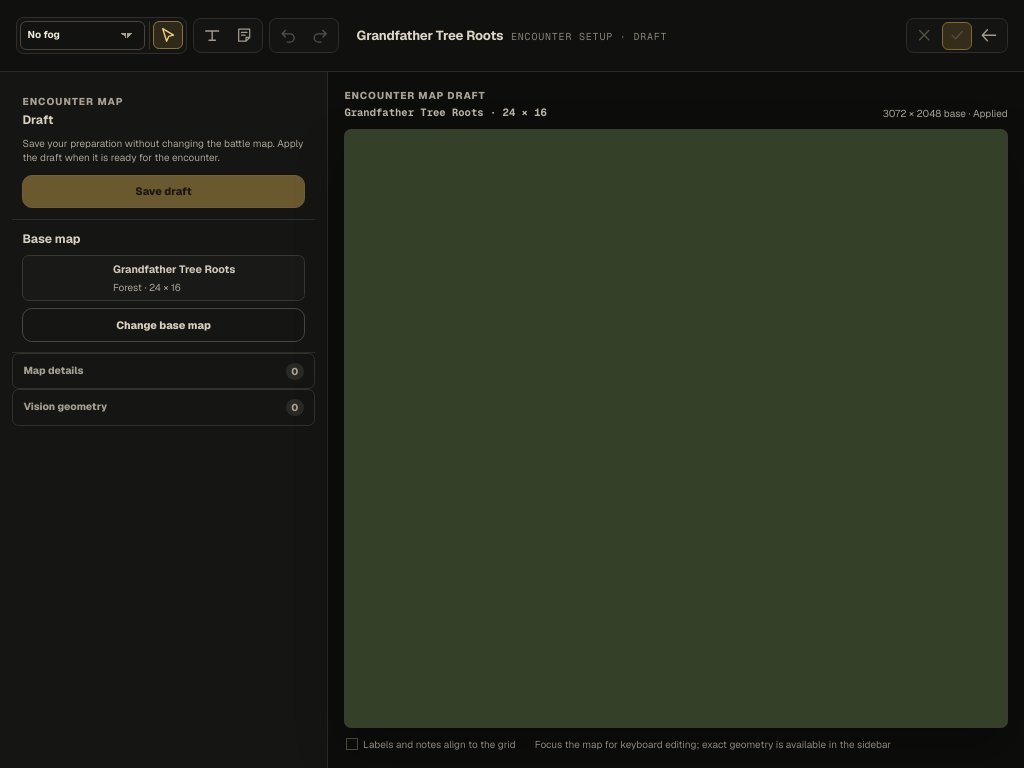
Test: MapWorkshop exit safeguards › only enables Apply draft when the draft differs from the applied encounter map
Expected: the button named "Apply draft" is disabled, [942,22,972,50]
Step 1. Select "Player vision" in the dropdown named "Visibility mode" → (82, 36), box [20,21,145,50]
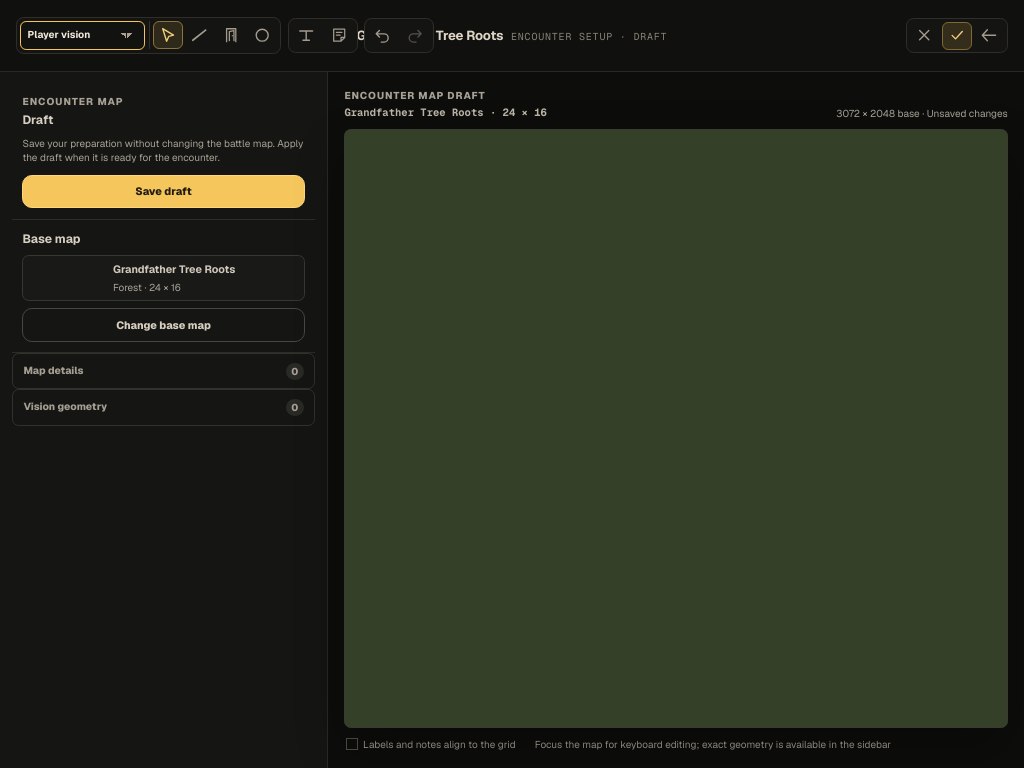
Expected: the button named "Apply draft" is enabled, [942,22,972,50]
Step 2. Click the button named "Undo draft change" → click(383, 36), box [368,22,397,50]
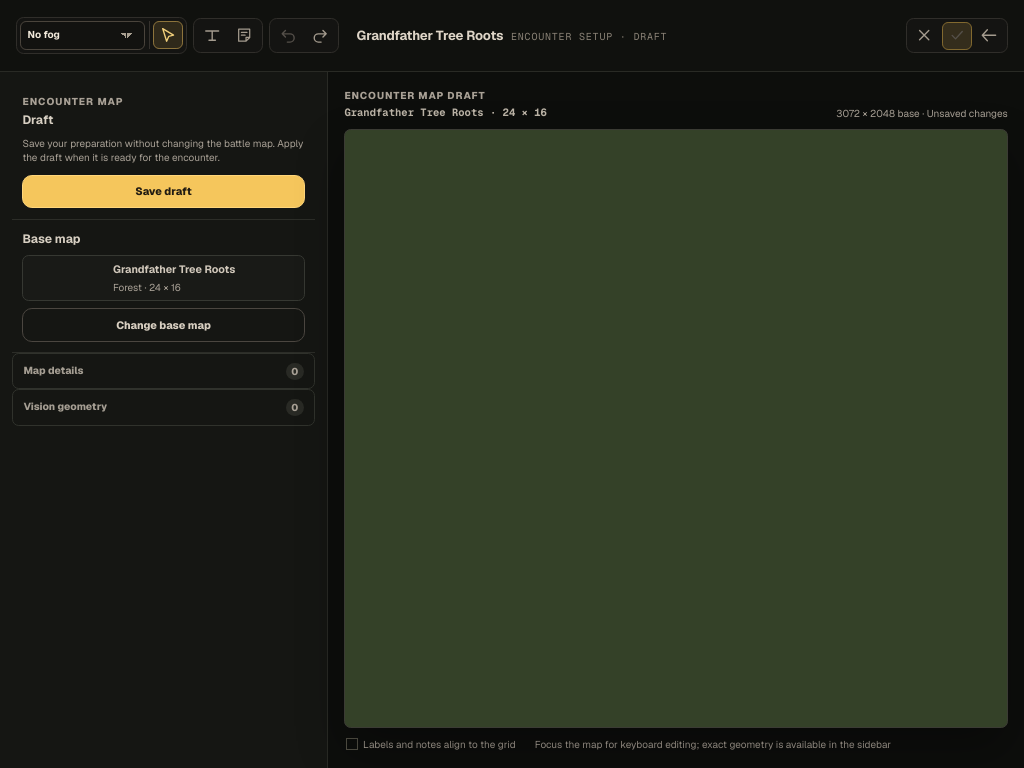
Expected: the button named "Apply draft" is disabled, [942,22,972,50]
